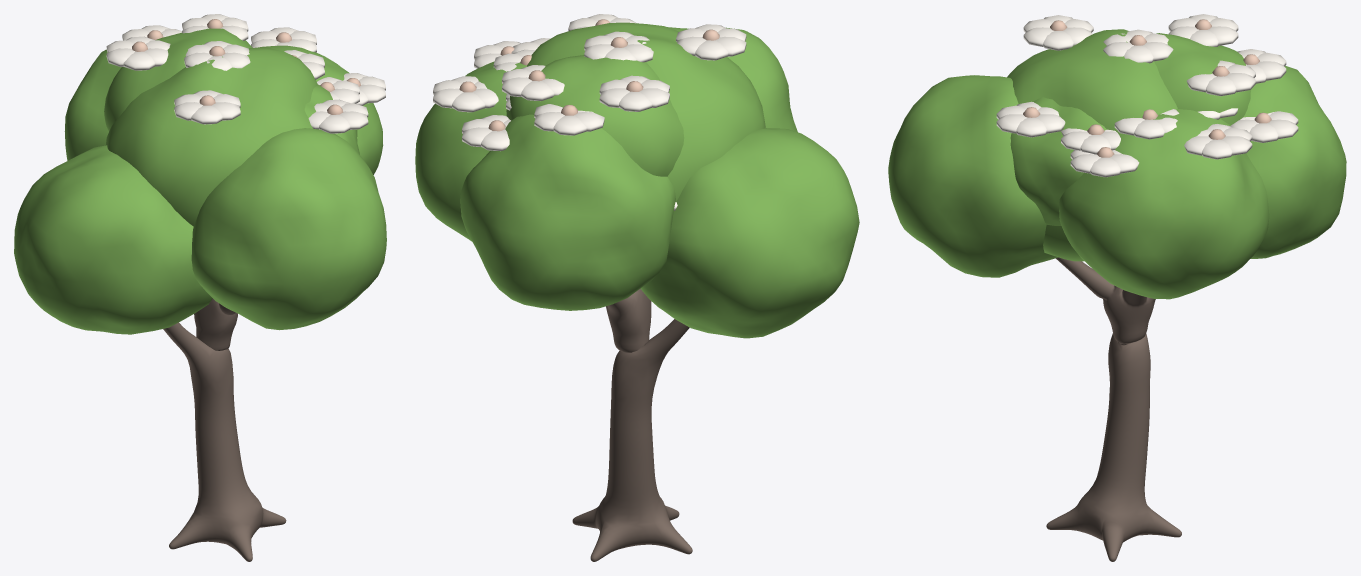
Rendered from magnolia.glb.
3 renders of one model, left to right at view 1: azimuth 30°, elevation 25°; view 2: azimuth 150°, elevation 25°; view 3: azimuth 270°, elevation 25°, orthographic. The views are drawn at different scales.
Parts seen in each view (by area): view 1: leaf_4, leaf_3, leaf_0, trunk, blossom, leaf_6, leaf_2, leaf_1, blossom_heart, leaf_5; view 2: leaf_3, leaf_2, trunk, blossom, leaf_0, leaf_6, leaf_1, leaf_4, blossom_heart; view 3: leaf_1, leaf_4, blossom, trunk, leaf_2, leaf_0, leaf_5, leaf_6, blossom_heart.
Part boxes in pixels (<box>): leaf_4: <box>191,128,386,330</box>; leaf_3: <box>14,145,212,334</box>; leaf_0: <box>105,47,317,226</box>; trunk: <box>163,298,286,561</box>; blossom: <box>106,14,385,133</box>; leaf_6: <box>104,28,252,131</box>; leaf_2: <box>64,49,121,160</box>; leaf_1: <box>258,45,383,174</box>; blossom_heart: <box>132,19,360,114</box>; leaf_5: <box>304,84,359,154</box>; leaf_3: <box>640,128,859,338</box>; leaf_2: <box>460,114,675,310</box>; trunk: <box>572,288,692,561</box>; blossom: <box>433,14,746,210</box>; leaf_0: <box>527,22,765,201</box>; leaf_6: <box>506,55,684,176</box>; leaf_1: <box>415,61,526,241</box>; leaf_4: <box>667,27,797,132</box>; blossom_heart: <box>459,19,719,131</box>; leaf_1: <box>1059,109,1269,299</box>; leaf_4: <box>888,75,1058,277</box>; blossom: <box>996,14,1298,177</box>; trunk: <box>1046,257,1181,561</box>; leaf_2: <box>1243,66,1346,258</box>; leaf_0: <box>1007,29,1177,261</box>; leaf_5: <box>1010,97,1106,225</box>; leaf_6: <box>1154,33,1251,125</box>; blossom_heart: <box>1023,19,1271,157</box>.
Bounding box in the file's own units: 2.35 × 3 × 2.49.
